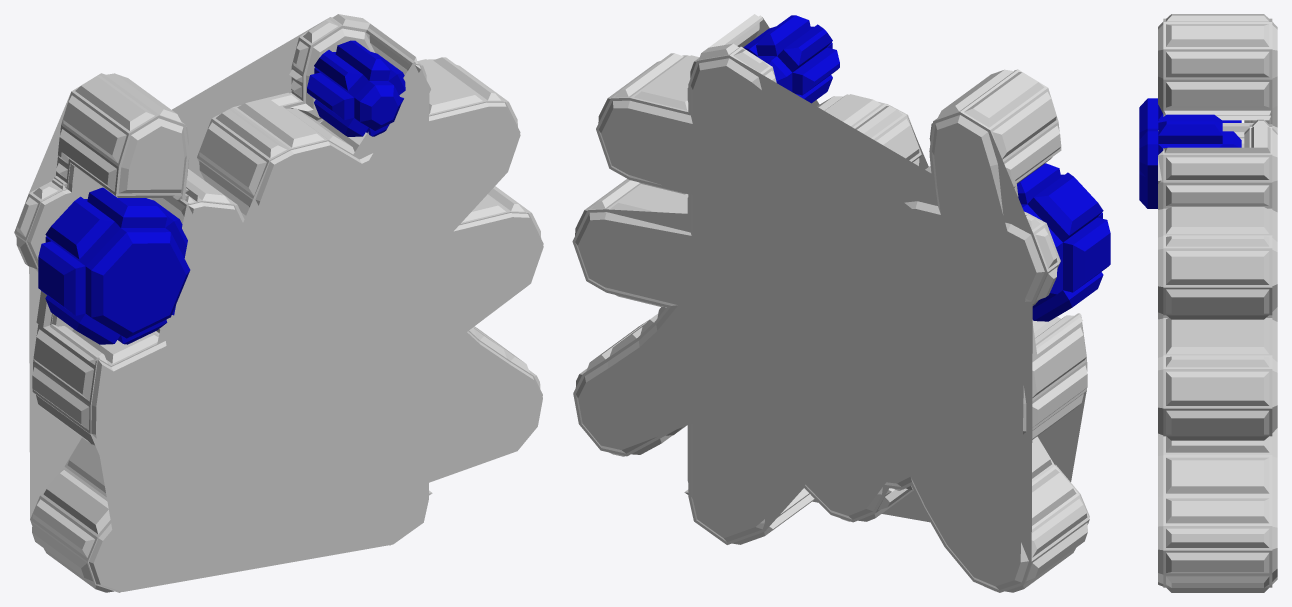
The model's file is Ch_China_妹_01.fbx.
3 renders of one model, left to right at view 1: azimuth 30°, elevation 25°; view 2: azimuth 150°, elevation 25°; view 3: azimuth 270°, elevation 25°, orthographic. The views are drawn at different scales.
Parts seen in each view (by area): view 1: sphere1; view 2: sphere1; view 3: sphere1.
Boxes of the visible parts, x1,y1,x2,y2 form: sphere1: (14,14,543,592); sphere1: (572,14,1110,592); sphere1: (1139,14,1277,592).
Size of the model in its own units: 0.962 by 0.94 by 0.2541.
